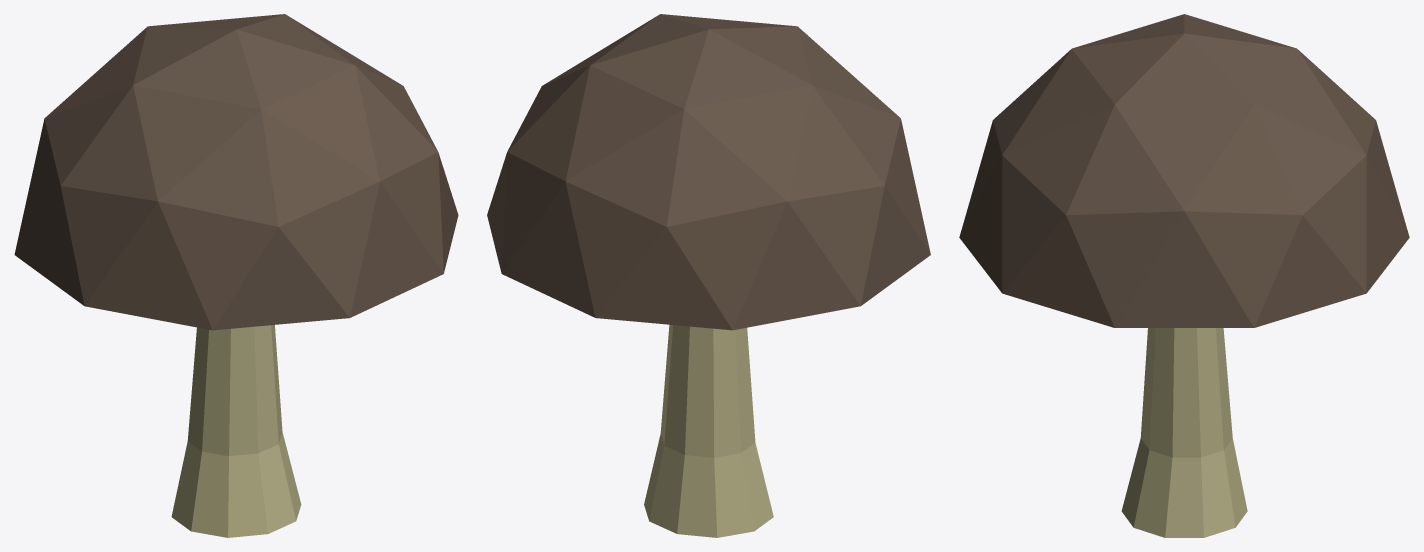
Rendered from mushrooom01_brown.fbx.
The picture shows the model from 3 angles, left to right: view 1: azimuth 30°, elevation 25°; view 2: azimuth 150°, elevation 25°; view 3: azimuth 270°, elevation 25°; orthographic projection.
Parts seen in each view (by area): view 1: mushrooom01_brown; view 2: mushrooom01_brown; view 3: mushrooom01_brown.
Part boxes in pixels (bbox=[...]): mushrooom01_brown: bbox=[14, 14, 458, 537]; mushrooom01_brown: bbox=[487, 14, 930, 537]; mushrooom01_brown: bbox=[959, 14, 1409, 537].
Size of the model in its own units: 59.22 by 72.89 by 62.27.
